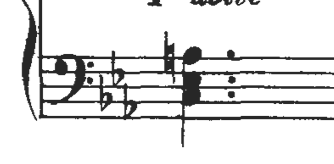bass_clef: (49, 44, 97, 110)
flat: (90, 70, 115, 116), (106, 48, 129, 89), (120, 79, 141, 123)
